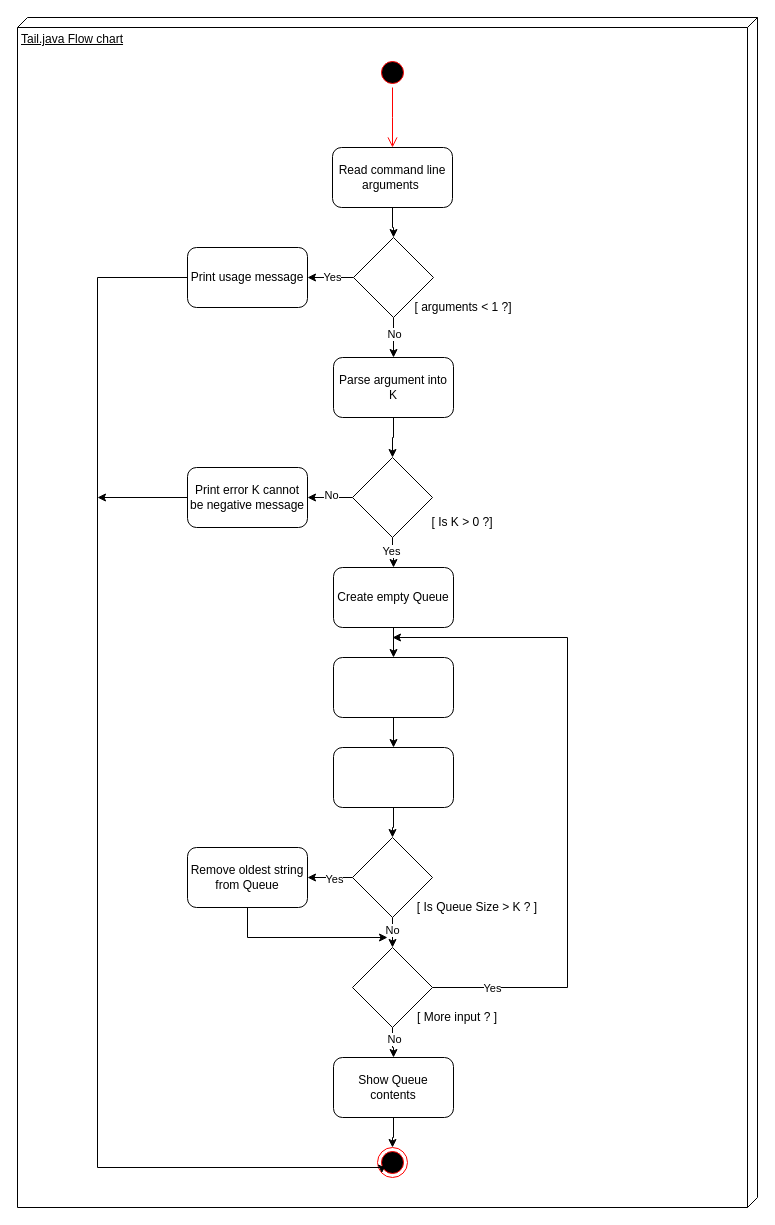
Image size: 775x1225. Some labels were removed from this diagram. Here are the shapes that lost their labels. From the top down, the centre of each, then its label:
At (x=393, y=687): "Read next string from standard input".
At (x=393, y=777): "Add string to Queue".
